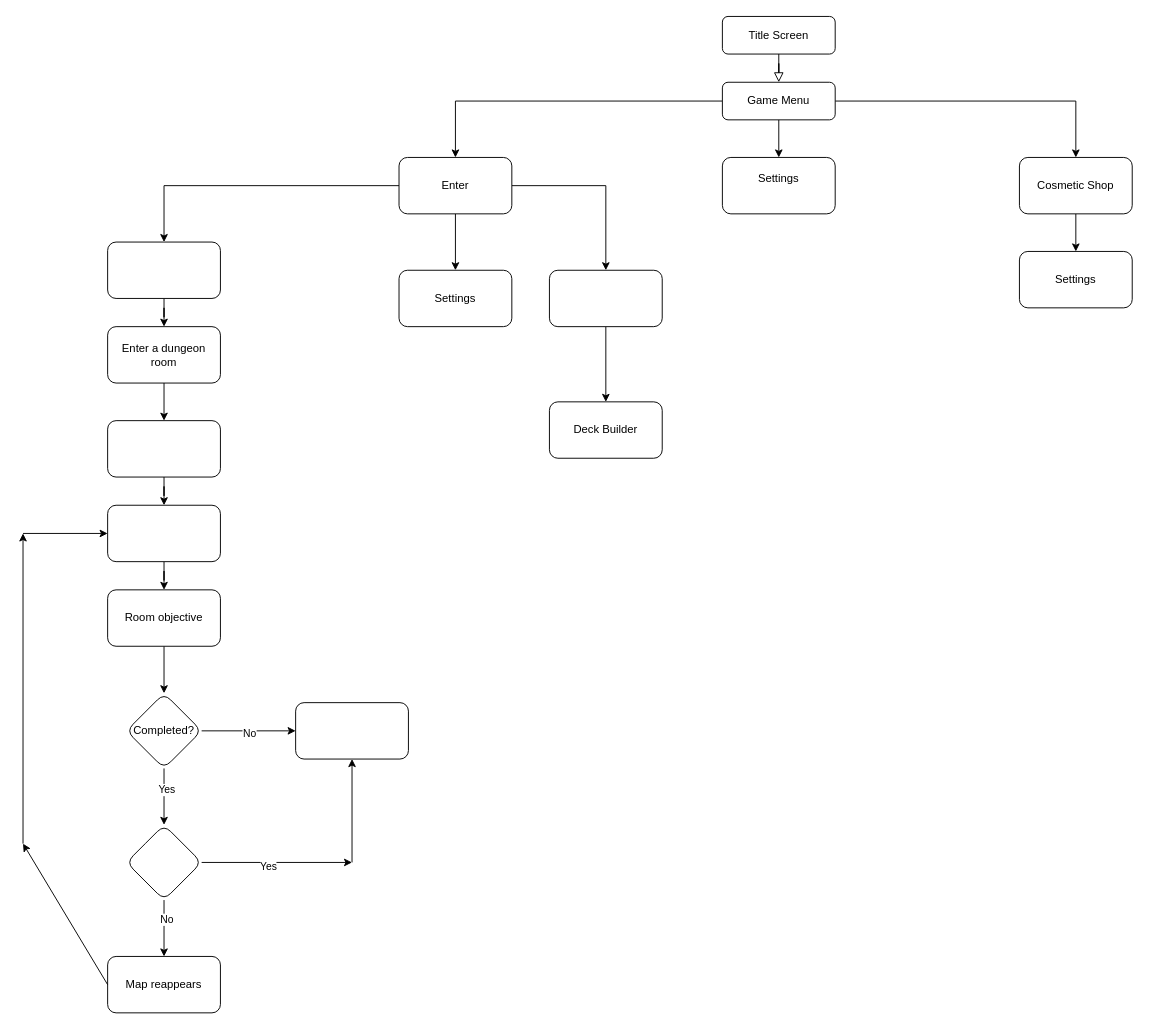
Image size: 1149x1029. Some labels were removed from this diagram. The box of each missing label's shape, as (x1, y1, x2, y2) in pixels:
Boss Room?: (125, 824, 202, 900)
Manage cards: (548, 269, 662, 327)
Map functionality: (107, 420, 220, 477)
Room selection: (107, 504, 220, 562)
Shop/Title: (295, 702, 408, 759)
Start: (107, 241, 220, 298)
